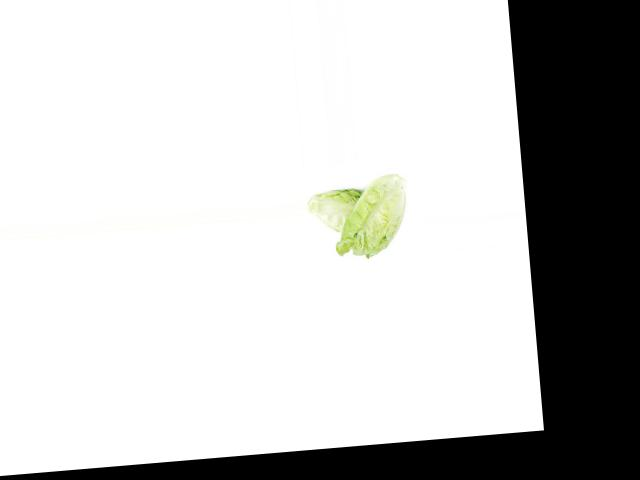lettuce: (304, 183, 366, 237)
